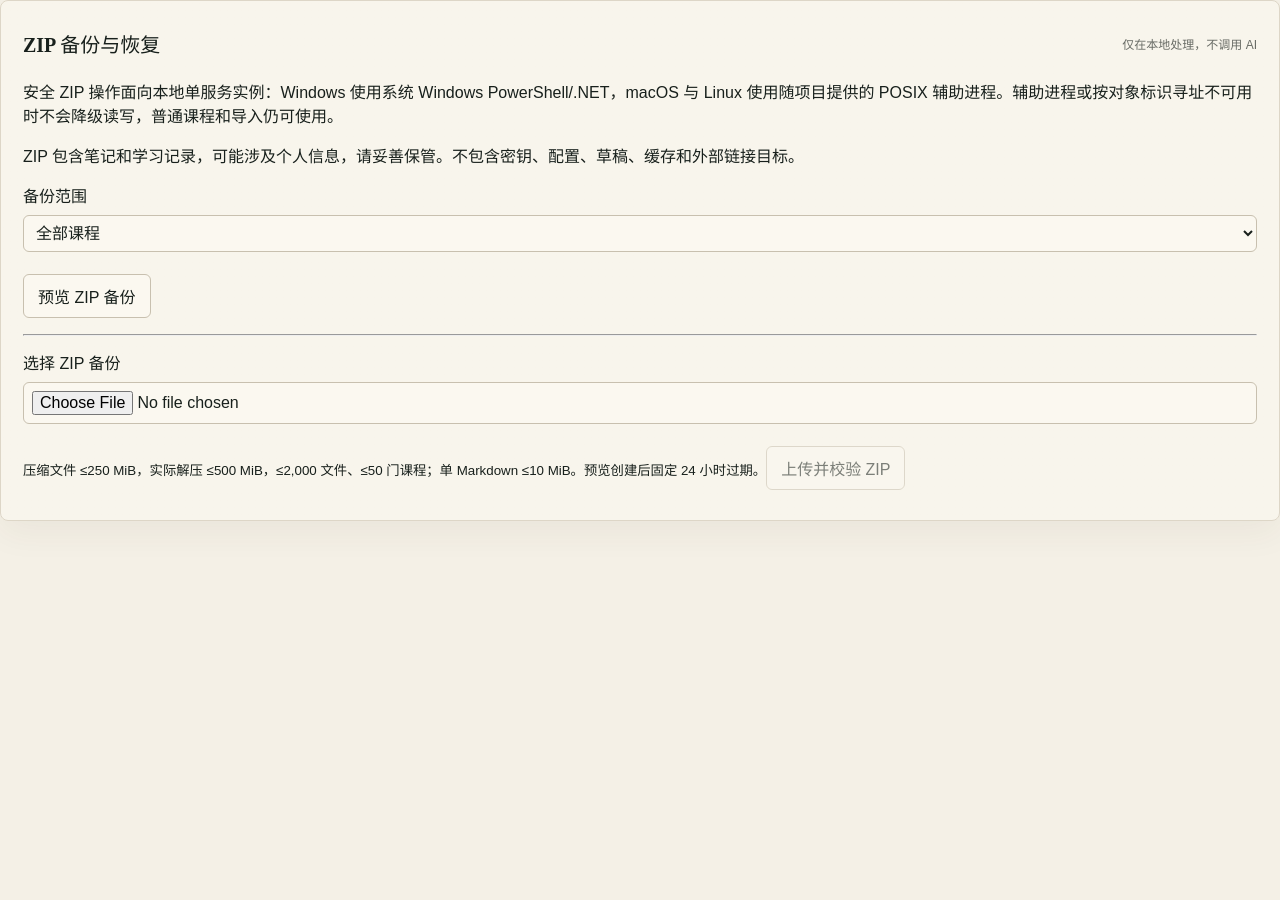
Test: previews source inclusion and privacy before ZIP download, with actionable retry
Select "课程" in the dropdown labelled "备份范围" at (640, 234), box [23,215,1257,252]
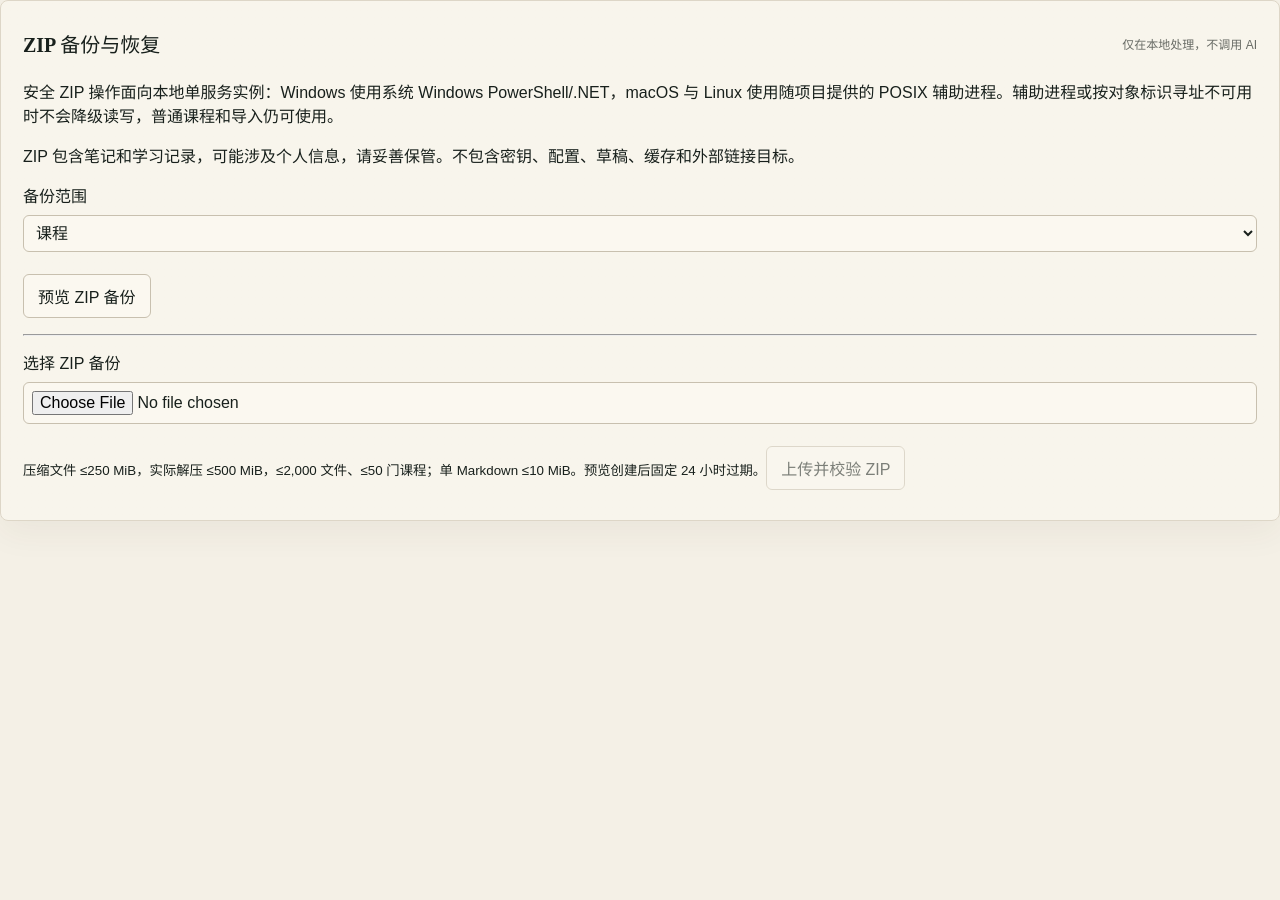
Click the button "预览 ZIP 备份".
click(87, 296)  # box [23,274,150,318]
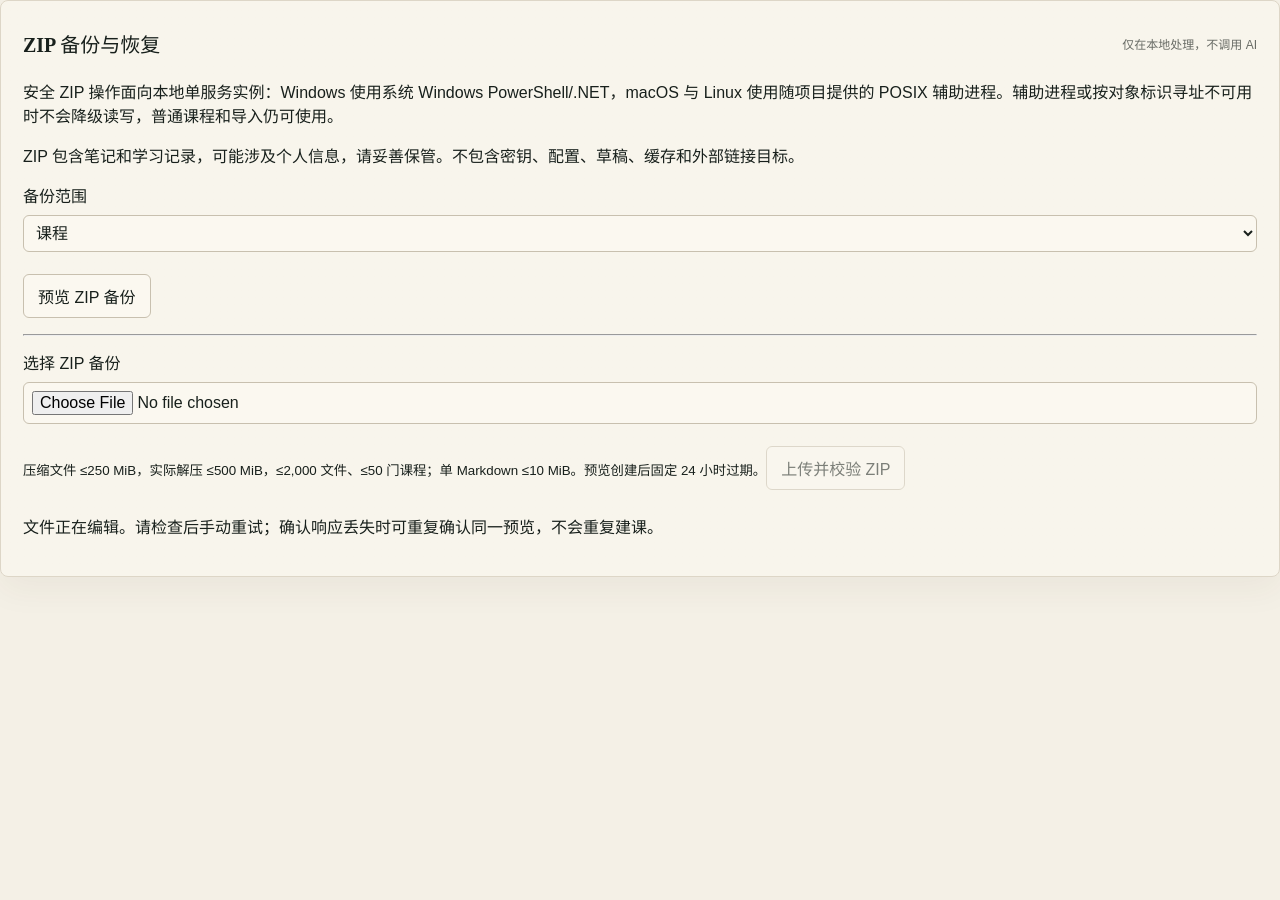
expect the message shows "文件正在编辑": met, box [23,519,119,536]
Click the button "预览 ZIP 备份".
click(87, 296)  # box [23,274,150,318]
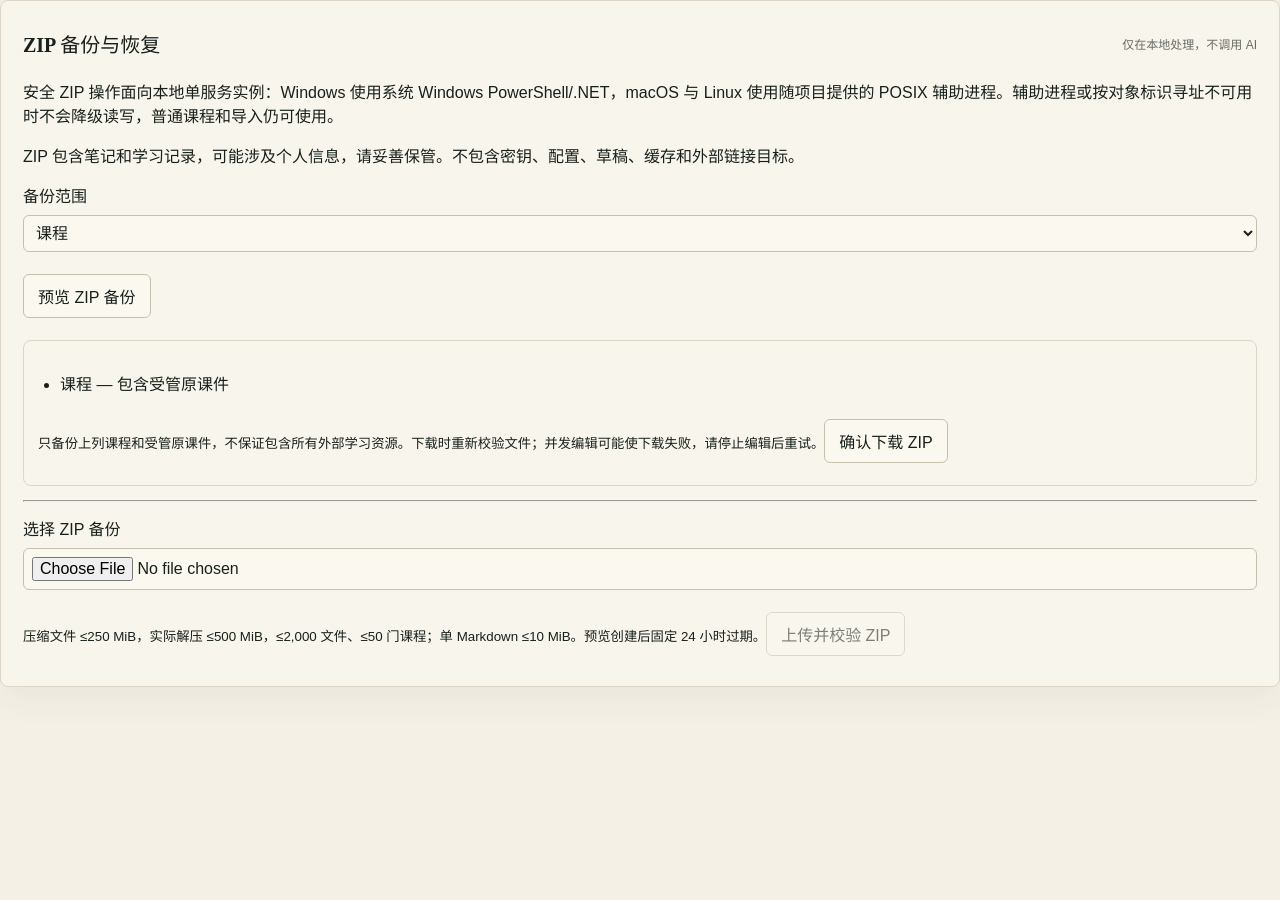
expect the text "ZIP 包含笔记和学习记录，可能涉及个人信息，请妥善保管。不包含密钥、配置、草稿、缓存和外部链接目标。" is shown: met, box [23,148,804,165]
expect the text "包含受管原课件" is shown: met, box [117,376,229,393]
expect the button "确认下载 ZIP" is enabled: met, box [824,419,948,463]
